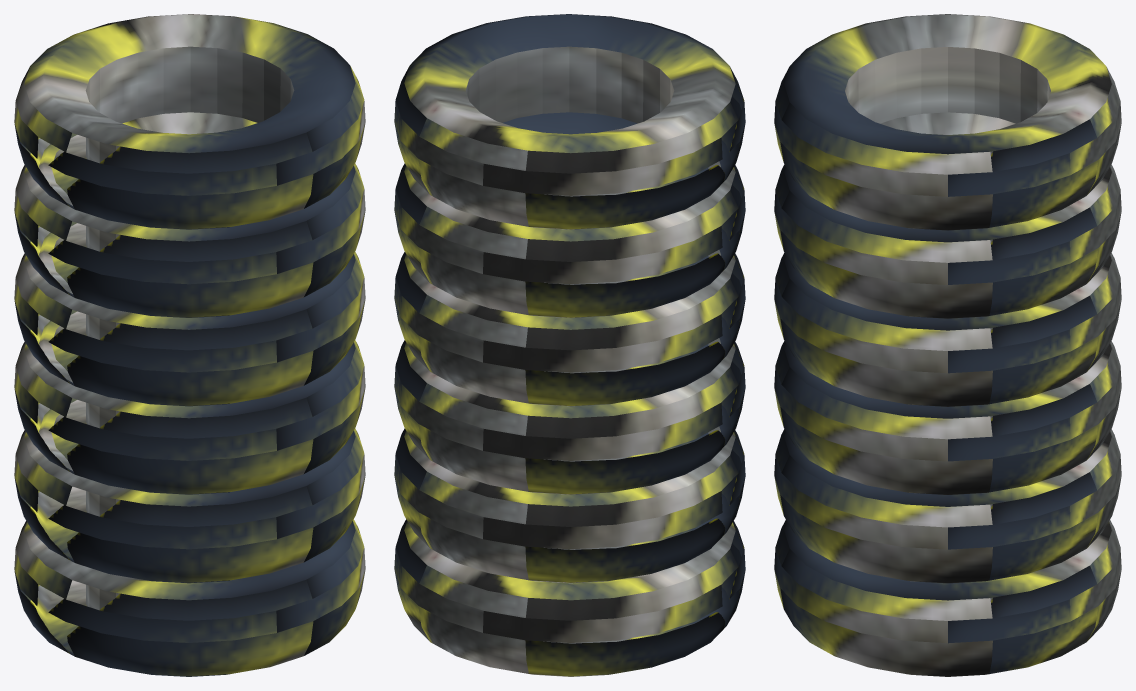
3 views of the same model, side by side, from view 1: azimuth 30°, elevation 25°; view 2: azimuth 150°, elevation 25°; view 3: azimuth 270°, elevation 25° (orthographic).
Parts seen in each view (by area): view 1: Cylinder201, Cylinder200, Cylinder180, Cylinder197, Cylinder199, Cylinder198; view 2: Cylinder201, Cylinder200, Cylinder180, Cylinder197, Cylinder199, Cylinder198; view 3: Cylinder201, Cylinder200, Cylinder180, Cylinder198, Cylinder197, Cylinder199.
Boxes of the visible parts, x1,y1,x2,y2 form: Cylinder201: (14, 14, 365, 229); Cylinder200: (14, 112, 365, 317); Cylinder180: (14, 519, 365, 676); Cylinder197: (14, 398, 365, 583); Cylinder199: (14, 221, 365, 406); Cylinder198: (14, 310, 365, 494); Cylinder201: (394, 14, 745, 229); Cylinder200: (394, 112, 745, 317); Cylinder180: (394, 519, 745, 676); Cylinder197: (394, 426, 745, 583); Cylinder199: (394, 250, 745, 406); Cylinder198: (394, 338, 745, 494); Cylinder201: (774, 14, 1121, 230); Cylinder200: (774, 112, 1121, 318); Cylinder180: (774, 520, 1121, 676); Cylinder198: (774, 341, 1121, 494); Cylinder197: (774, 429, 1121, 583); Cylinder199: (774, 253, 1121, 406).
Size of the model in its own units: 53.16 by 52.52 by 89.91.
